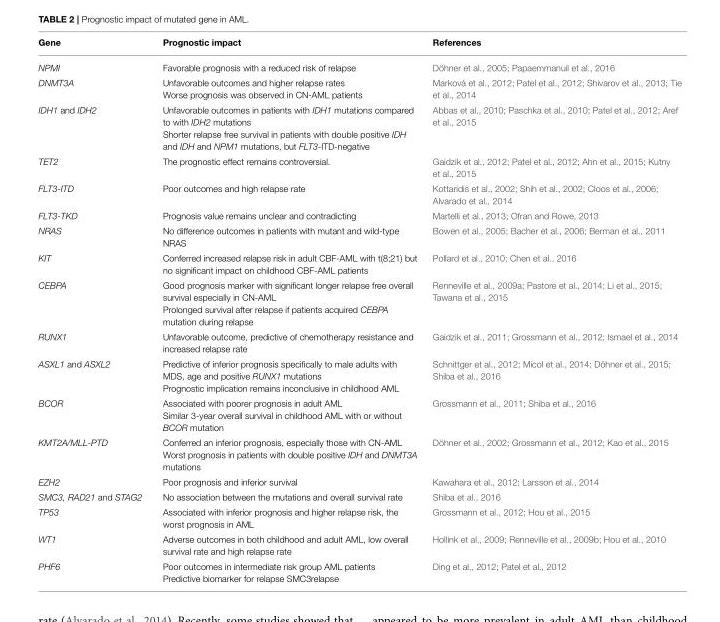table: (37, 37, 681, 582)
table column: (151, 37, 424, 582), (424, 37, 681, 582), (37, 37, 151, 582)
table column header: (37, 37, 681, 54)
table row: (37, 277, 681, 329), (37, 102, 681, 153), (37, 434, 681, 474), (37, 356, 681, 395), (37, 395, 681, 434), (37, 180, 681, 208), (37, 75, 681, 102), (37, 153, 681, 180), (37, 223, 681, 250), (37, 250, 681, 277), (37, 329, 681, 356), (37, 504, 681, 531), (37, 531, 681, 558), (37, 558, 681, 582), (37, 54, 681, 75), (37, 37, 681, 54), (37, 208, 681, 223), (37, 474, 681, 489), (37, 489, 681, 504)
